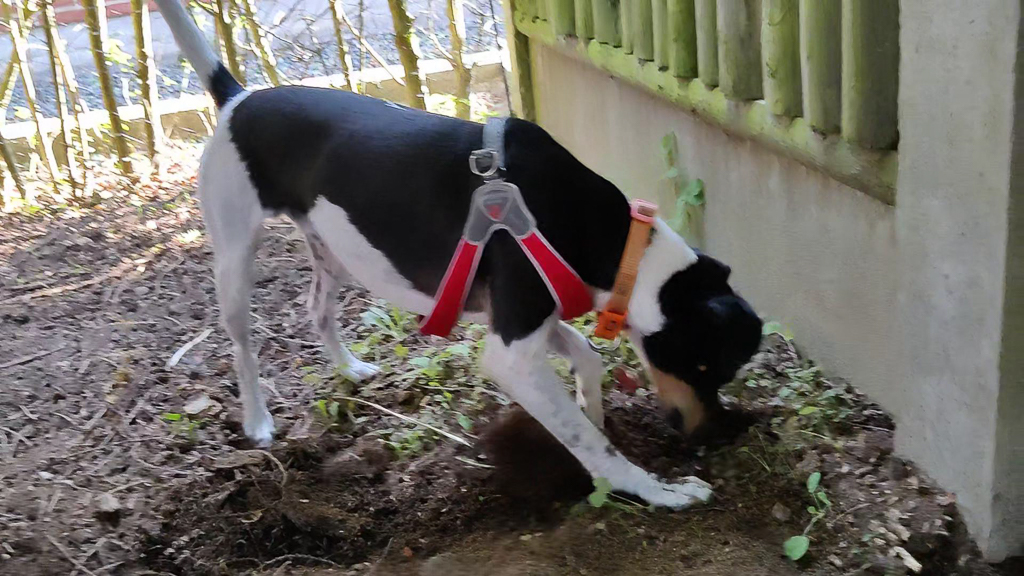Dog: (138, 0, 775, 526)
